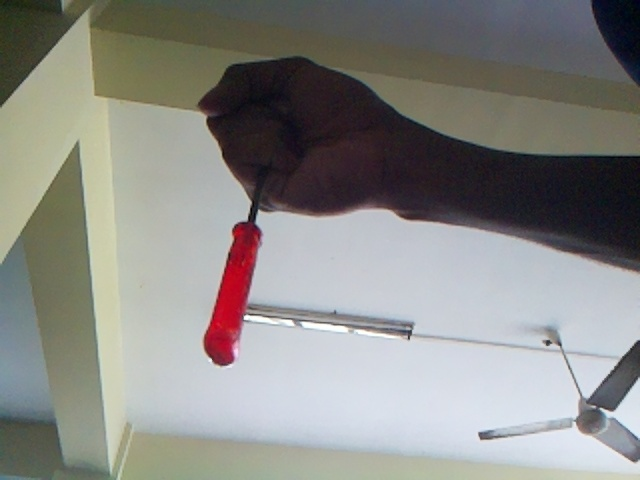redskrew: (201, 161, 274, 363)
